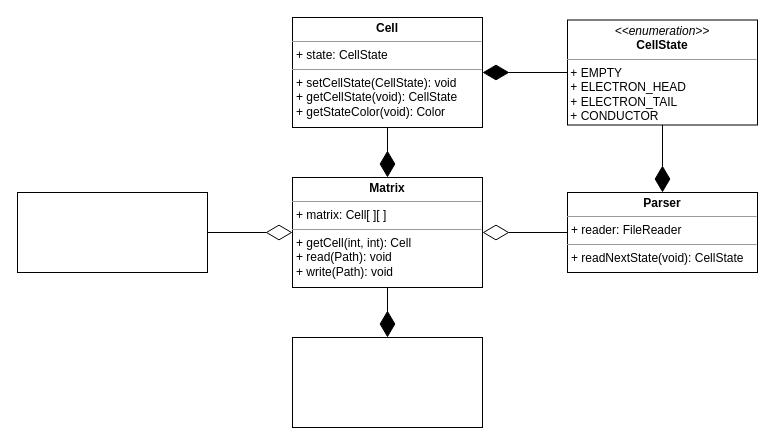
This 775x445 diagram has some shape labels left out. The shapes that lost their labels are listed below. From the top down, each one's centre as x and y in pixels, then its label:
point (112, 232): MyFileWriter + writer: MyFileWriter + writeNextState(Path): void
point (387, 382): Game + canvas: Mycanvas + frame: JFrame + run(void): void
